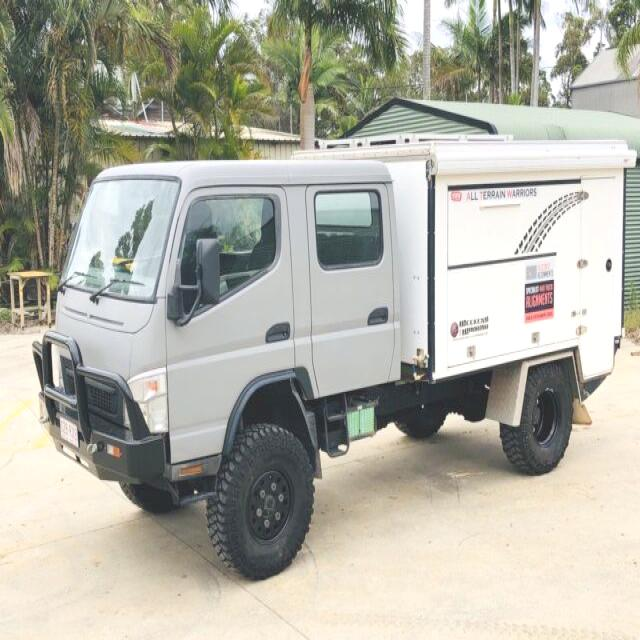truck: (33, 137, 636, 584)
